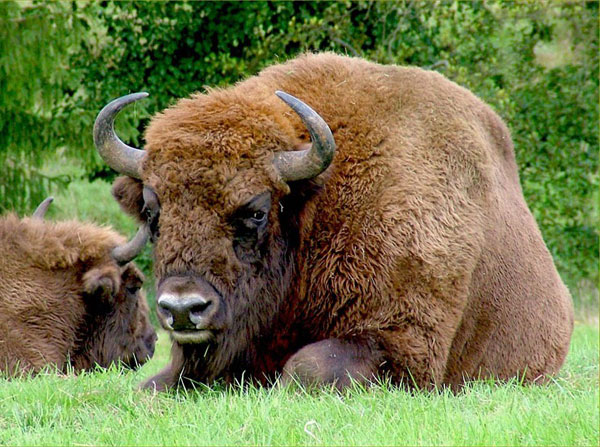zubr: (82, 30, 600, 420), (1, 186, 212, 413)
